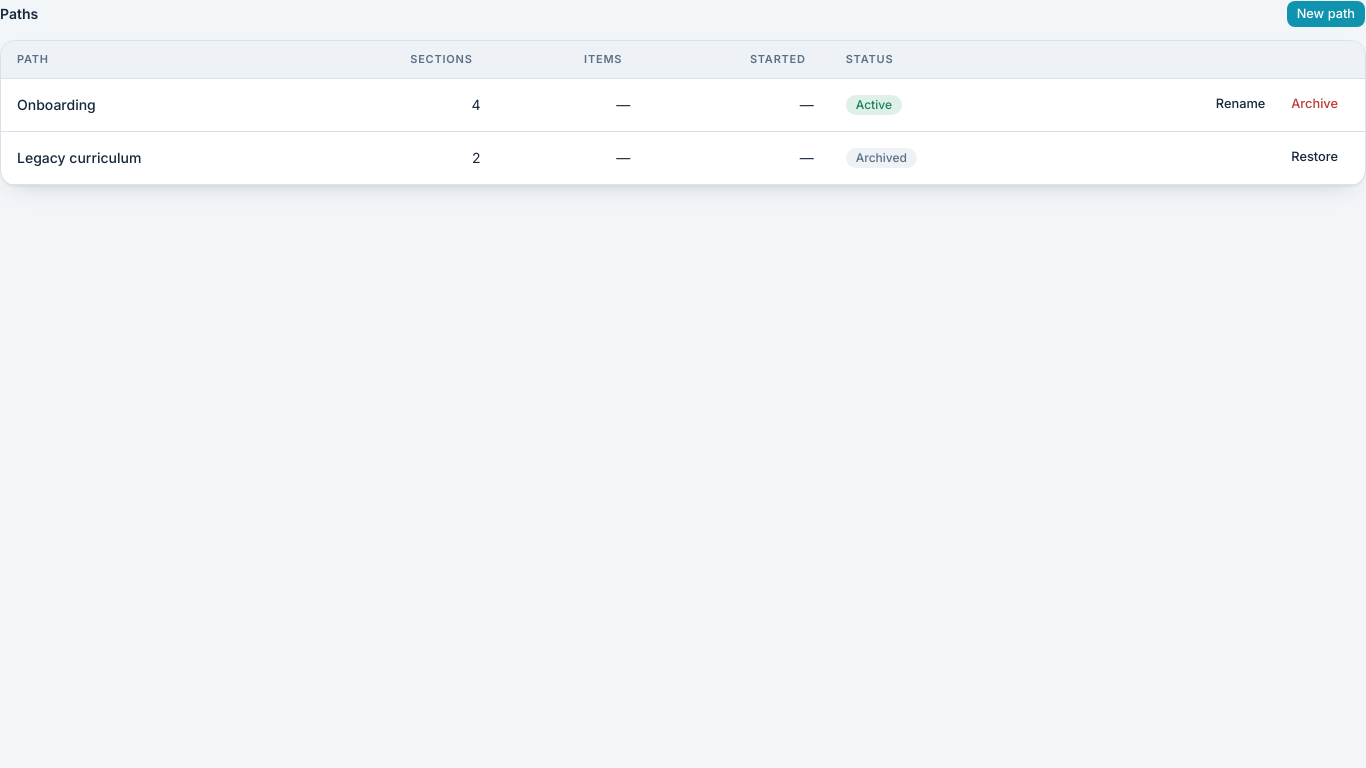
Scenario: PathsTab › names the real consequence of archiving: gone from lists/pickers, progress survives, restorable
Click the button "Archive": (1315, 104) [1280, 90, 1349, 118]
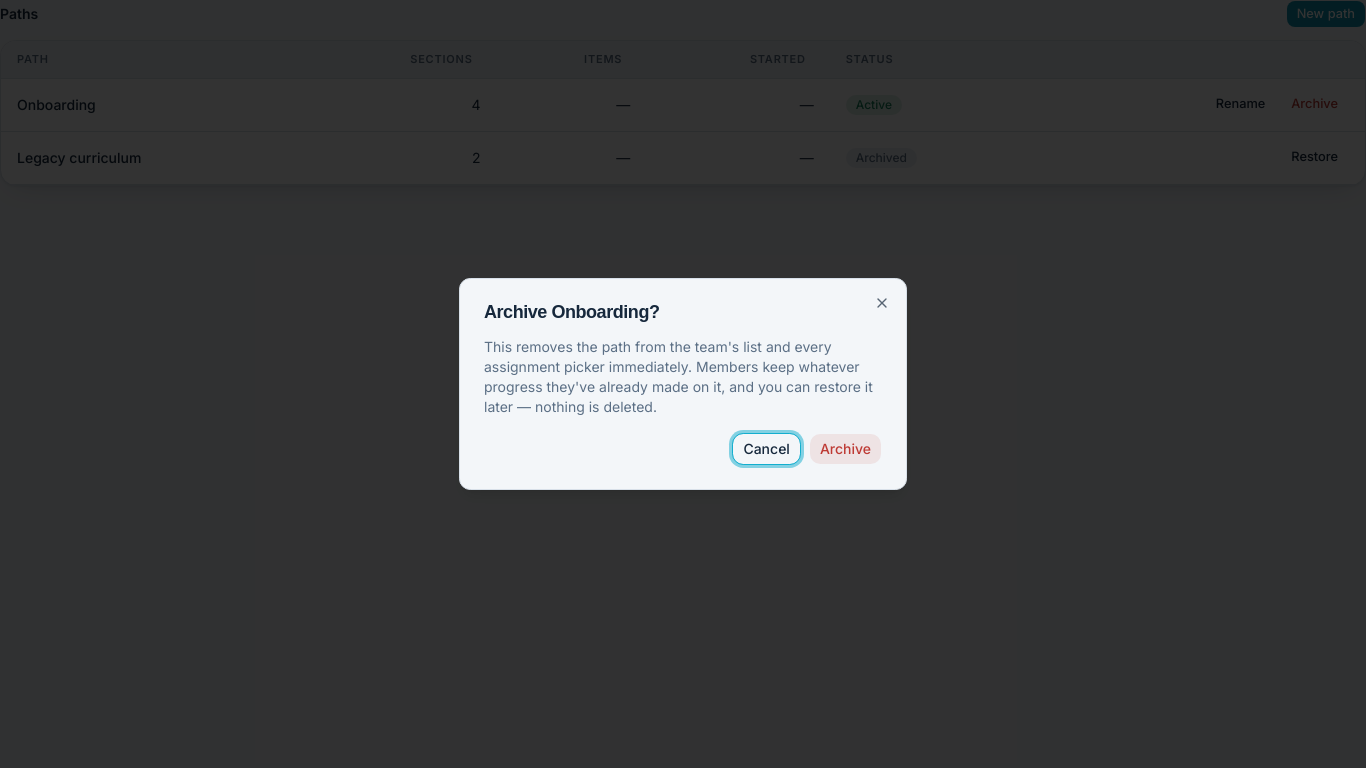
Expected: the text "restore" is shown, [484, 338, 873, 415]
